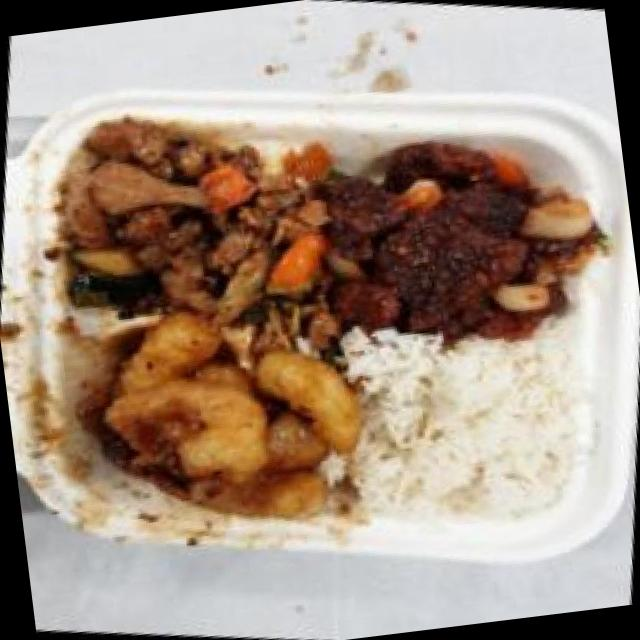Beijing Beef: (296, 102, 628, 380)
Honey Walnut Shrimp: (58, 277, 390, 560)
Kung Pao Chicken: (10, 76, 368, 377)
White Steamed Rice: (332, 308, 606, 552)
